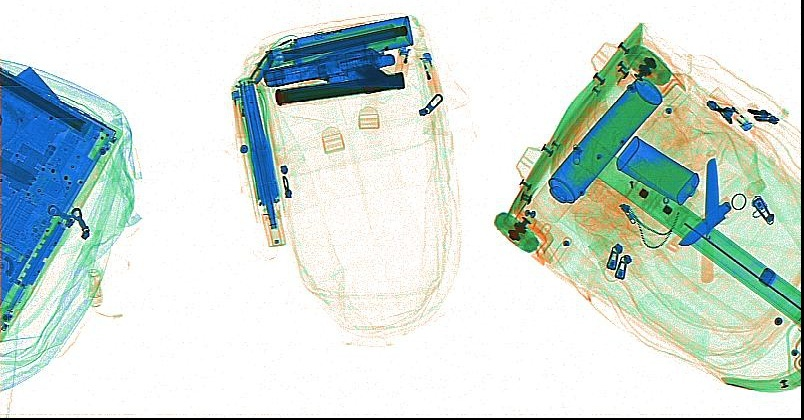knife: (675, 197, 730, 246), (700, 156, 720, 284), (248, 49, 274, 83)
lighter: (708, 85, 752, 132), (417, 50, 443, 96), (228, 87, 247, 139)
pressure: (532, 79, 663, 224), (288, 15, 411, 65)
zippooil: (613, 136, 699, 206)
